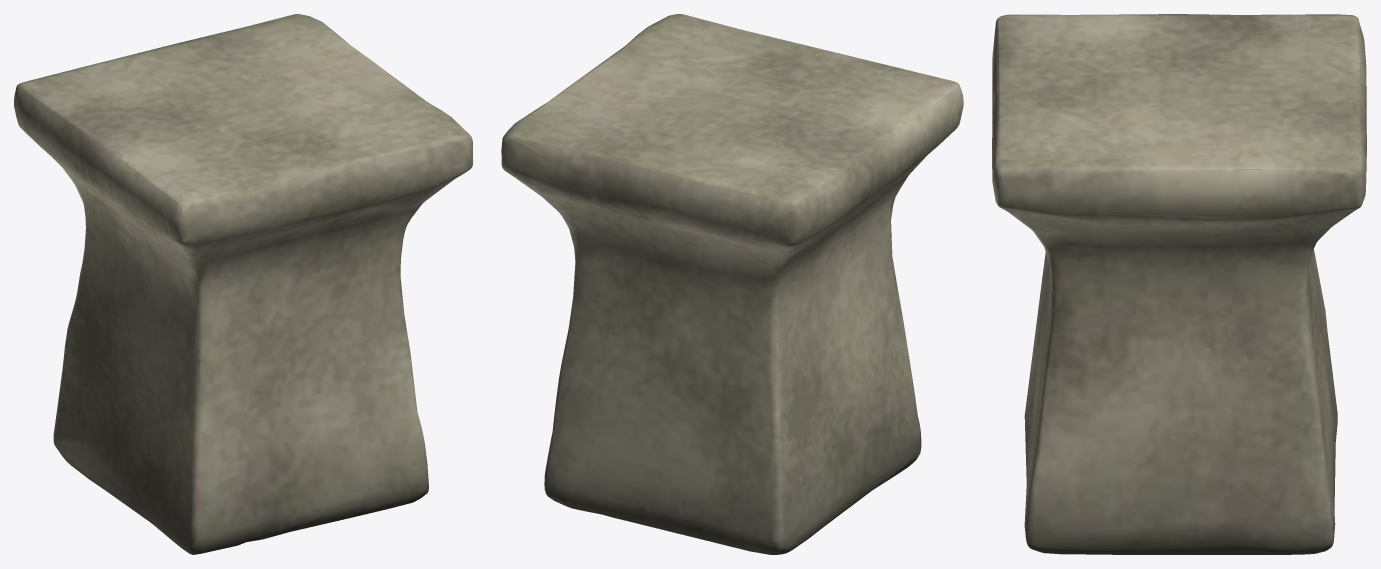
Rendered from weathered-limestone-pedestal-v001.glb.
The picture shows the model from 3 angles, left to right: view 1: azimuth 30°, elevation 25°; view 2: azimuth 150°, elevation 25°; view 3: azimuth 270°, elevation 25°; orthographic projection. The views are drawn at different scales.
Parts seen in each view (by area): view 1: weathered-limestone-pedestal; view 2: weathered-limestone-pedestal; view 3: weathered-limestone-pedestal.
Part boxes in pixels (box(x1,y1,x2,y2)): weathered-limestone-pedestal: box(14, 14, 472, 554); weathered-limestone-pedestal: box(501, 14, 963, 554); weathered-limestone-pedestal: box(992, 14, 1366, 554).
Bounding box in the file's own units: 0.924 × 1.1 × 0.9143.
Materials: 1 (1 with a texture image).
